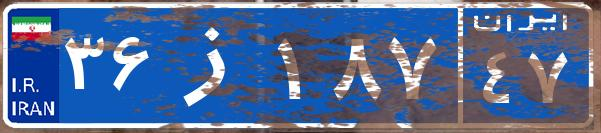1: (273, 28, 330, 110)
3: (57, 26, 110, 107)
4: (475, 38, 525, 113)
6: (110, 28, 158, 105)
7: (385, 28, 445, 110), (525, 38, 570, 115)
8: (330, 28, 385, 110)
ز: (158, 15, 273, 115)
